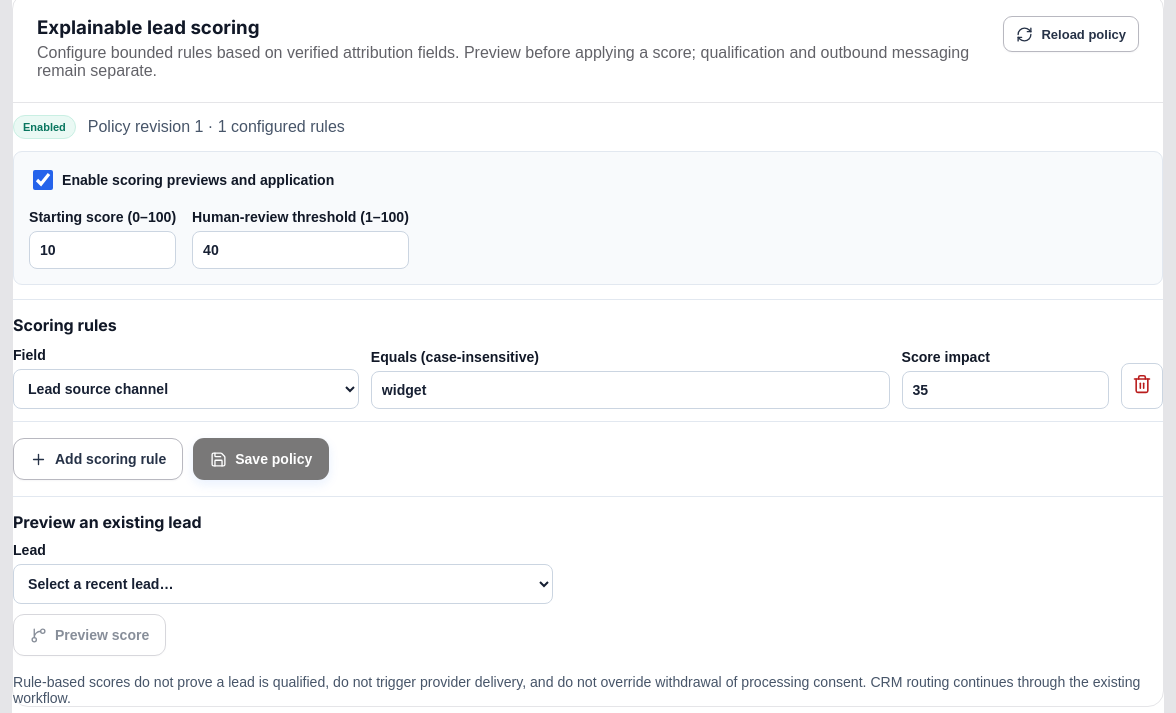
Test case: CRM lead-scoring panel › separates preview from explicit human-approved score application
Step 1. Select "New lead · widget" in the dropdown labelled "Lead" → x=283, y=584, box [13,564,553,604]
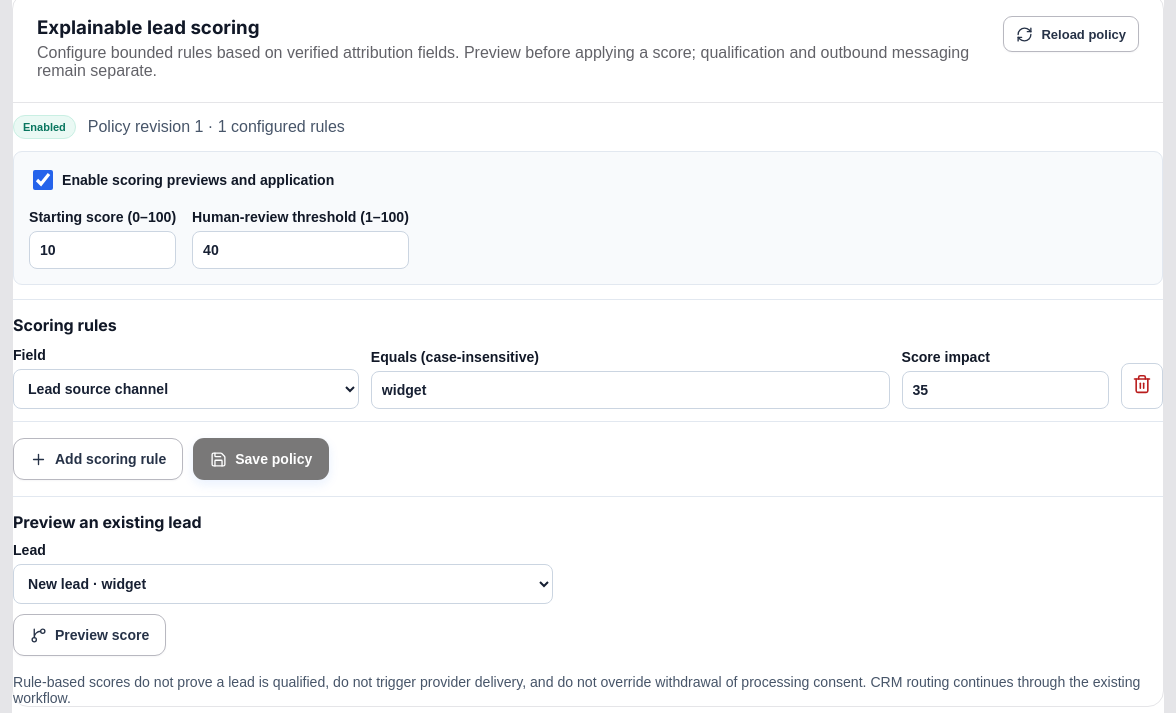
Step 2. Click the button "Preview score" → x=90, y=635, box [13,614,166,656]
(page scrolled)
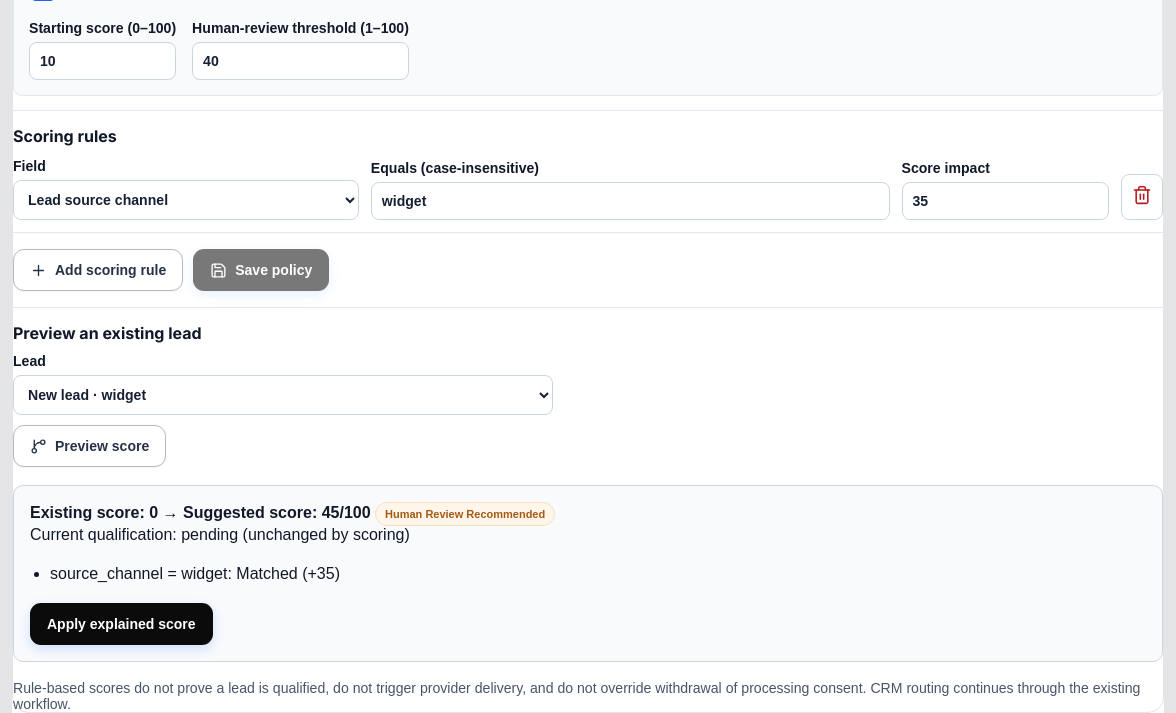
Result: the text "Existing score: 0 → Suggested score: 45/100" is shown at [30,504,371,521]
Result: the text "Current qualification: pending (unchanged by scoring)" is shown at [30,526,410,543]
Step 3. Click the button "Apply explained score" → x=121, y=624, box [30,603,213,645]
(page scrolled)
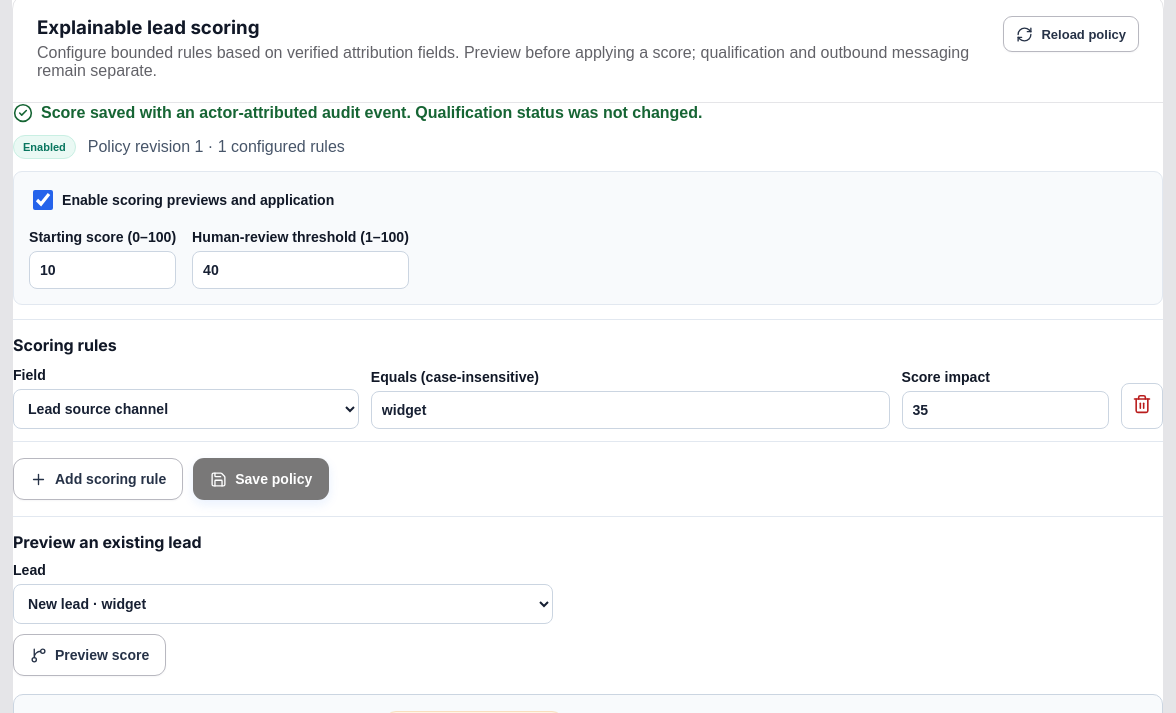
Result: the text "Score saved with an actor-attributed audit event" is shown at [41,104,702,121]
